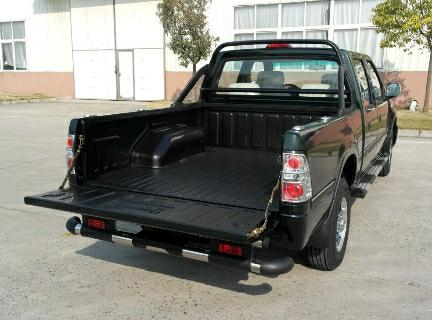car: (18, 36, 405, 280)
